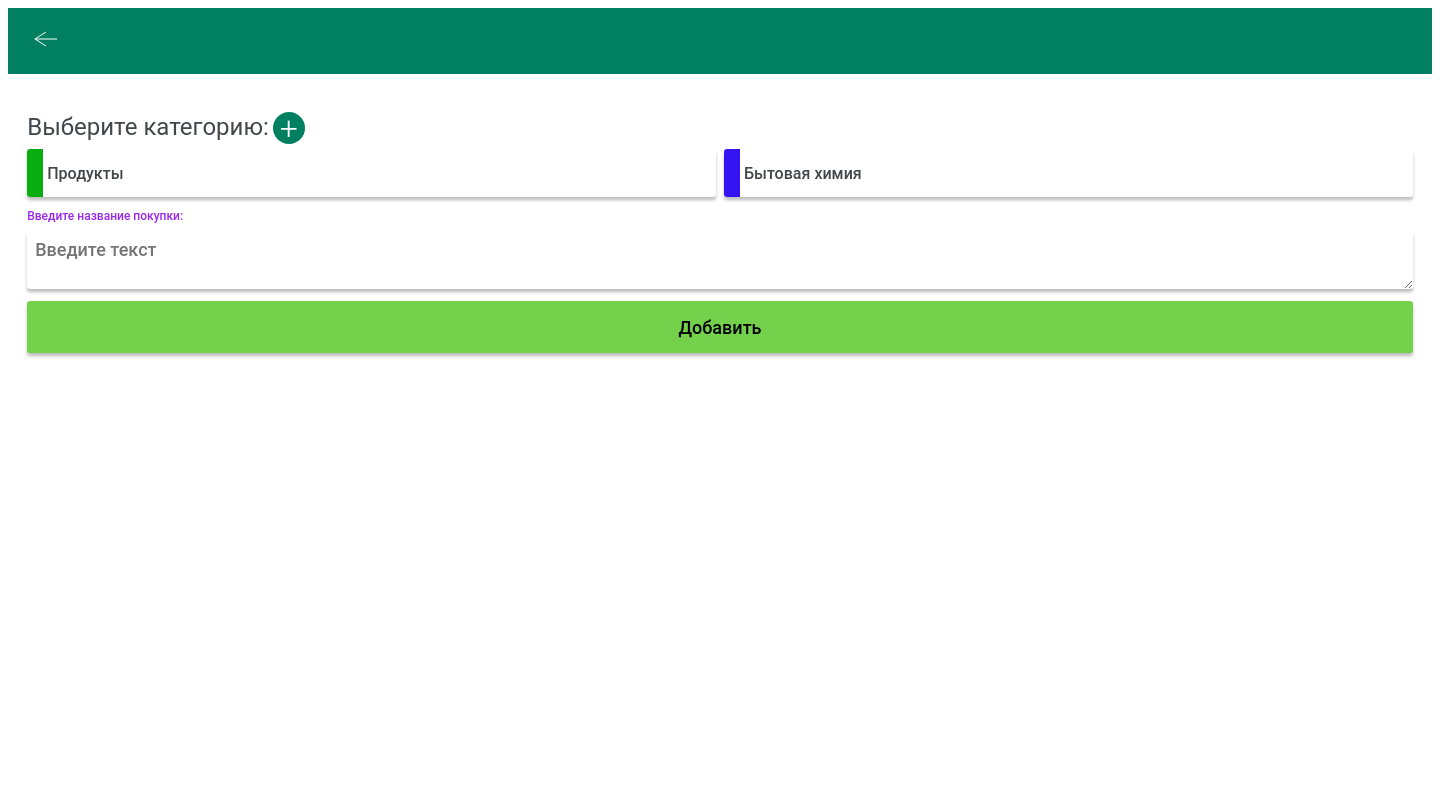
it: testing CategorySelect add category error › test render CategorySelect add category error
Expected: the button "Продукты" is shown, [27,150,716,198]
Step 1. Click the button titled "Кнопка для добавления категорий" → (289, 128), box [273,112,305,144]
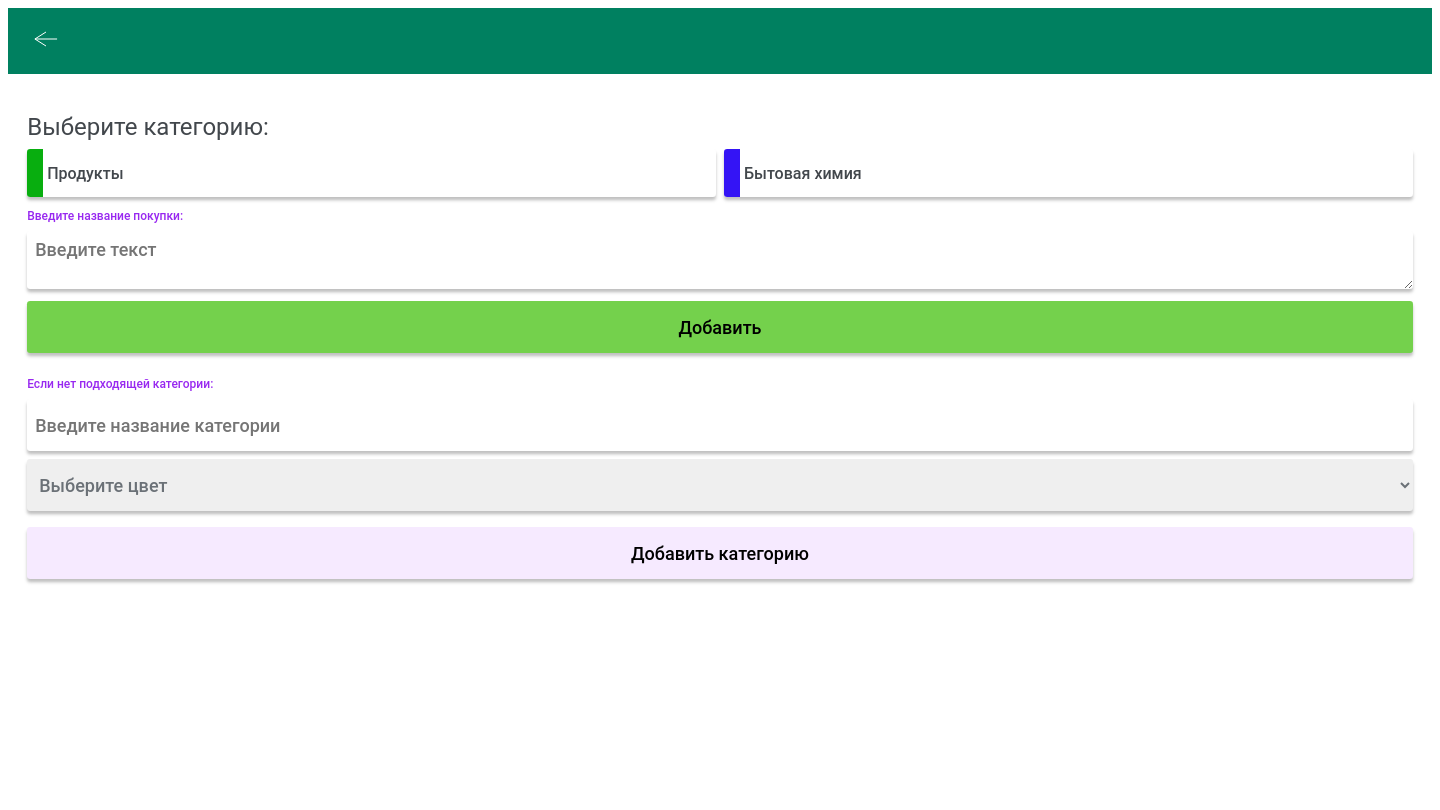
Expected: the button "Добавить категорию" is shown, [27,528,1413,580]
Step 2. Type "Фрукты" into the field with placeholder "Введите название категории" → (720, 426), box [27,400,1413,452]
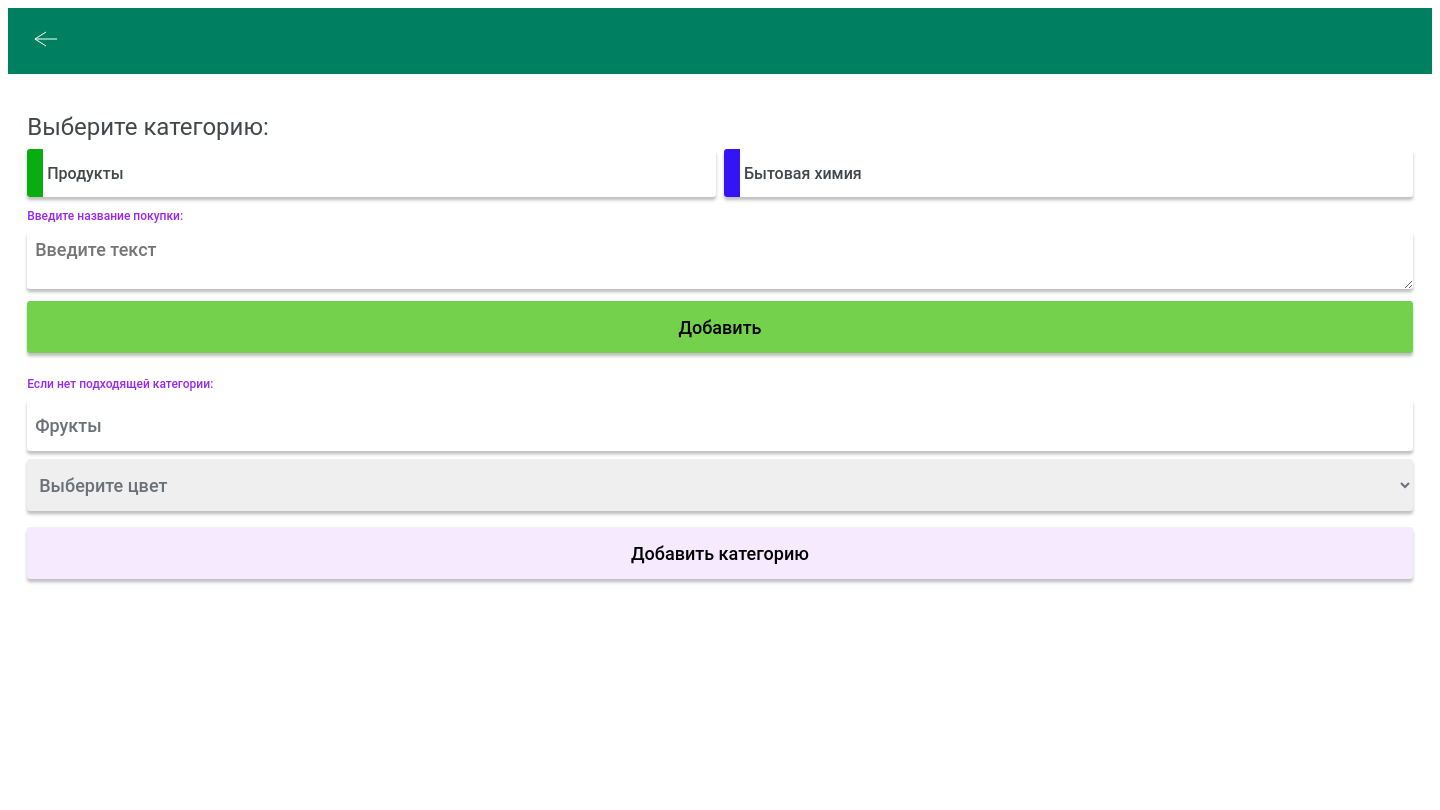
Step 3. Select "Зеленый" in the dropdown with test id "select" → (720, 486), box [27,460,1413,512]
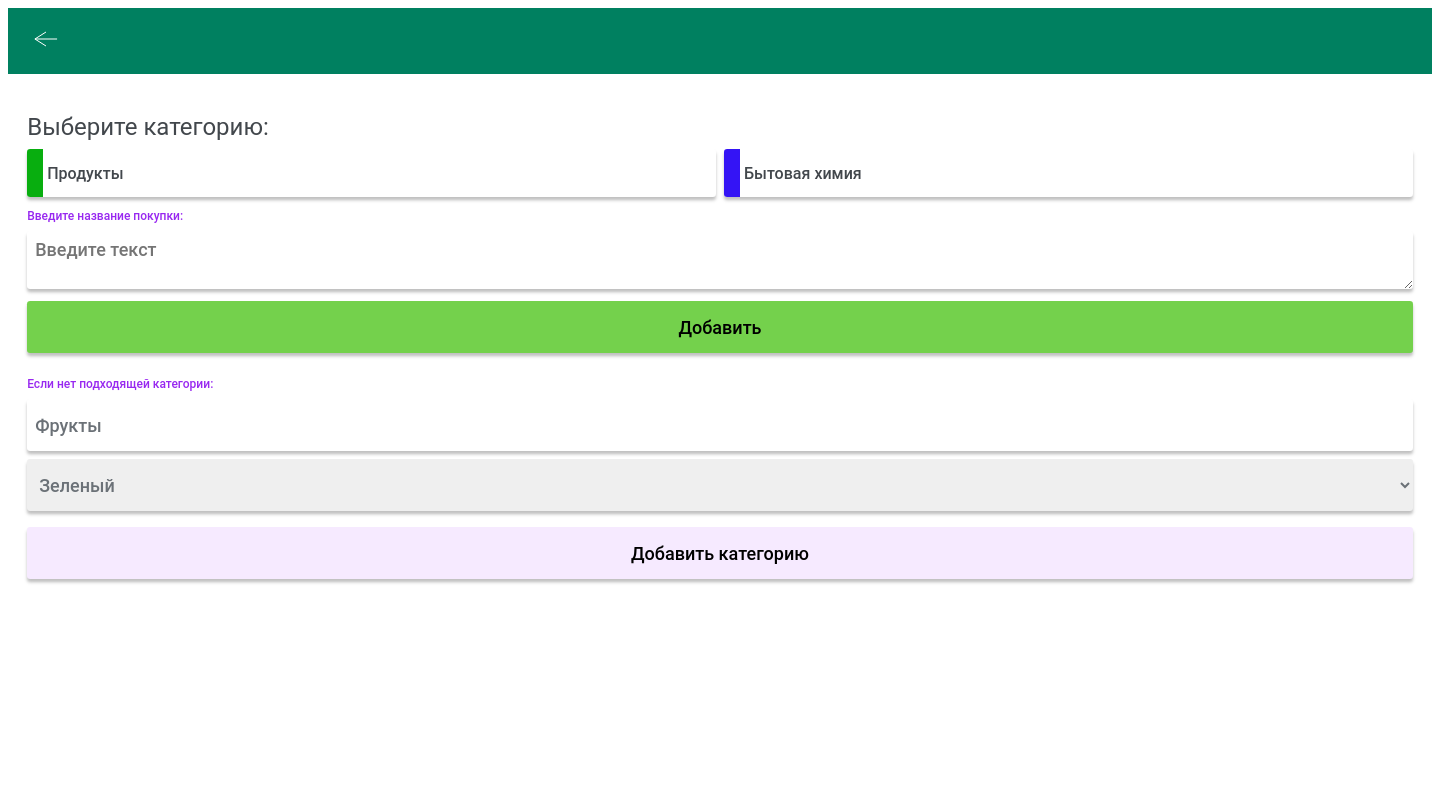
Step 4. Click the button titled "Добавить категорию" → (720, 554), box [27,528,1413,580]
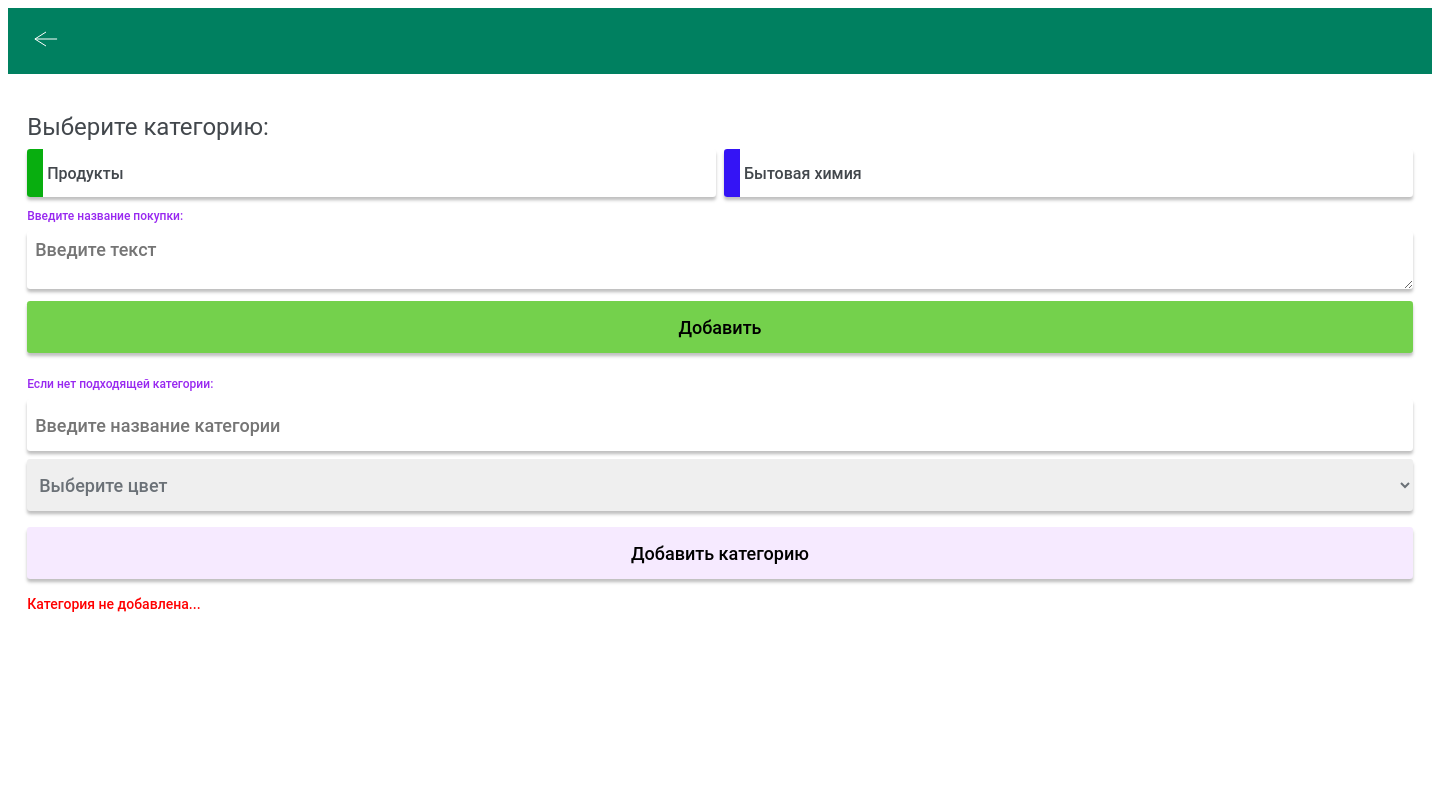
Expected: the text "Категория не добавлена..." is shown, [27,596,201,612]
